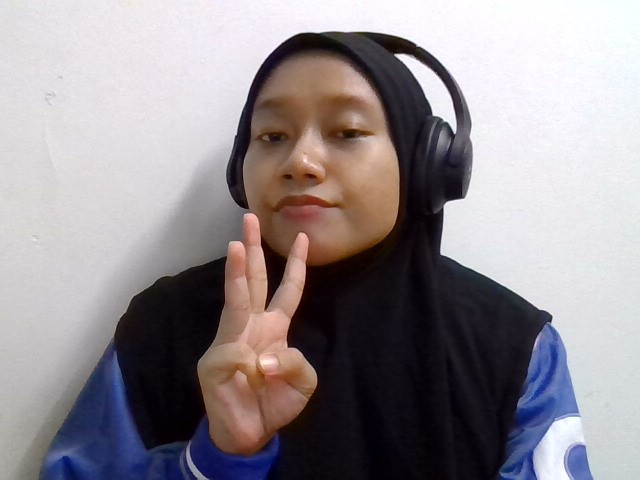Selangor: (196, 192, 346, 450)
